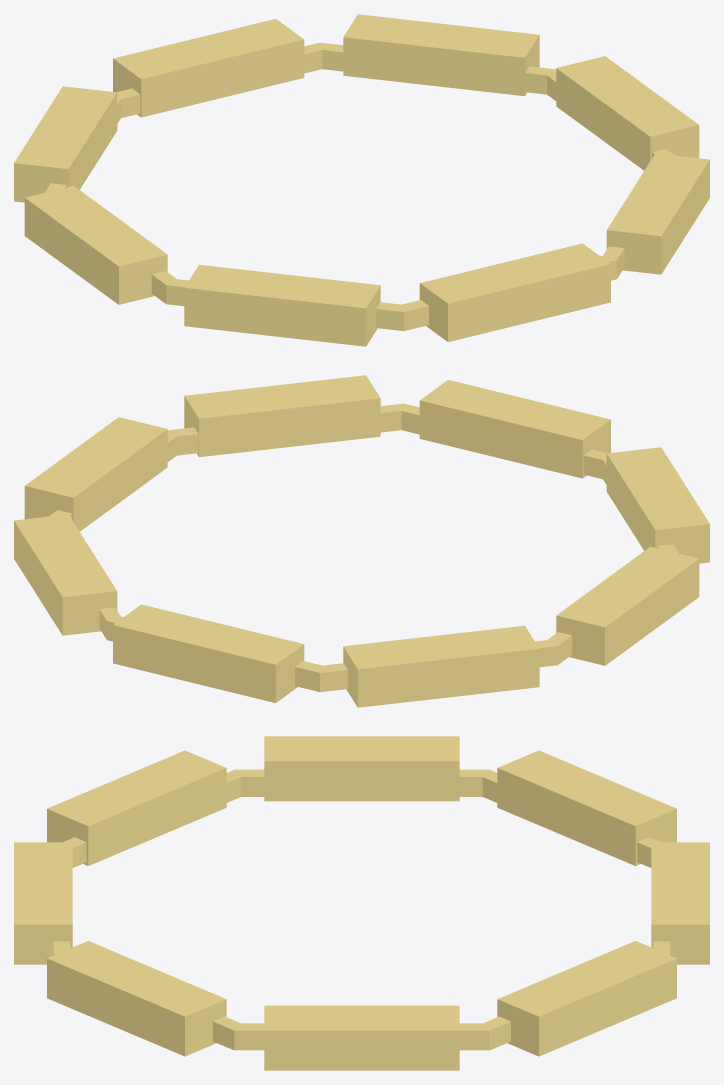
The model's file is check_destination_ring.glb.
3 views of the same model, one above another, from view 1: azimuth 30°, elevation 25°; view 2: azimuth 150°, elevation 25°; view 3: azimuth 270°, elevation 25° (orthographic). The views are drawn at different scales.
Parts seen in each view (by area): view 1: check_destination_ring; view 2: check_destination_ring; view 3: check_destination_ring.
Boxes of the visible parts, x1,y1,x2,y2 form: check_destination_ring: (14,14,709,346); check_destination_ring: (14,375,709,707); check_destination_ring: (14,736,709,1070).
Bounding box in the file's own units: 1.9 × 0.12 × 1.9.
